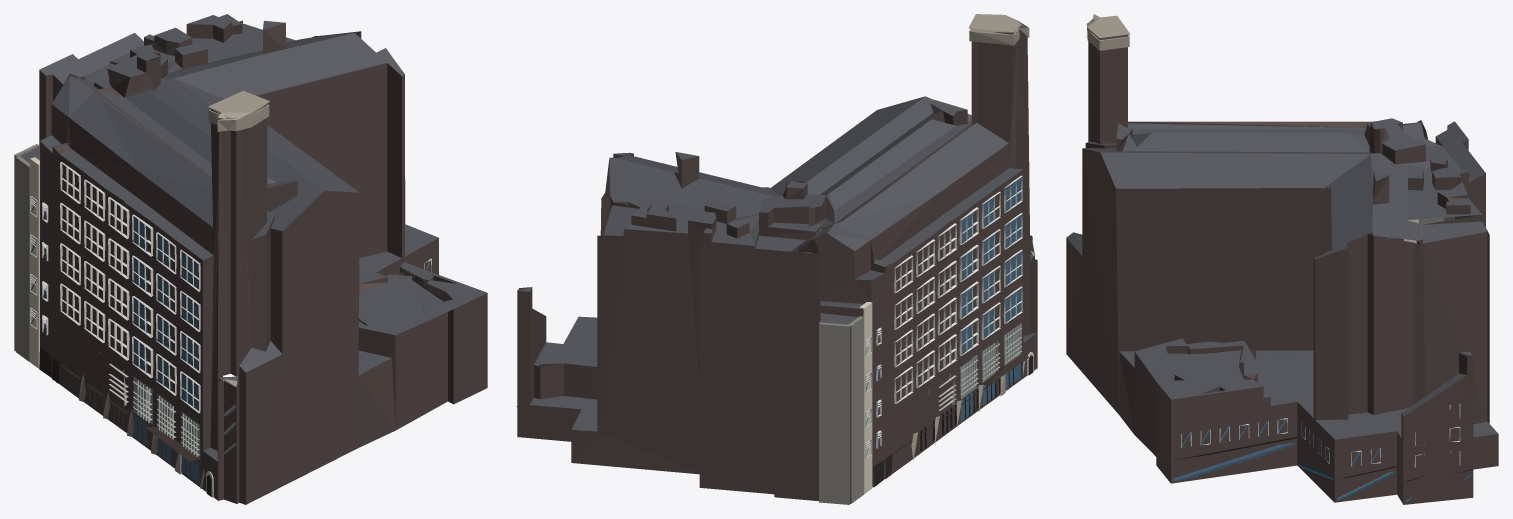
The model's file is telegraaf-gebouw.lod1.glb.
The picture shows the model from 3 angles, left to right: view 1: azimuth 30°, elevation 25°; view 2: azimuth 150°, elevation 25°; view 3: azimuth 270°, elevation 25°; orthographic projection. The views are drawn at different scales.
Visible parts, largest first — view 1: telegraaf-gebouw; view 2: telegraaf-gebouw; view 3: telegraaf-gebouw.
Part boxes in pixels (left/top/right/bottom): telegraaf-gebouw: left=14, top=14, right=487, bottom=504; telegraaf-gebouw: left=516, top=14, right=1037, bottom=504; telegraaf-gebouw: left=1066, top=14, right=1498, bottom=504.
Size of the model in its own units: 49.09 by 47.12 by 55.18.
